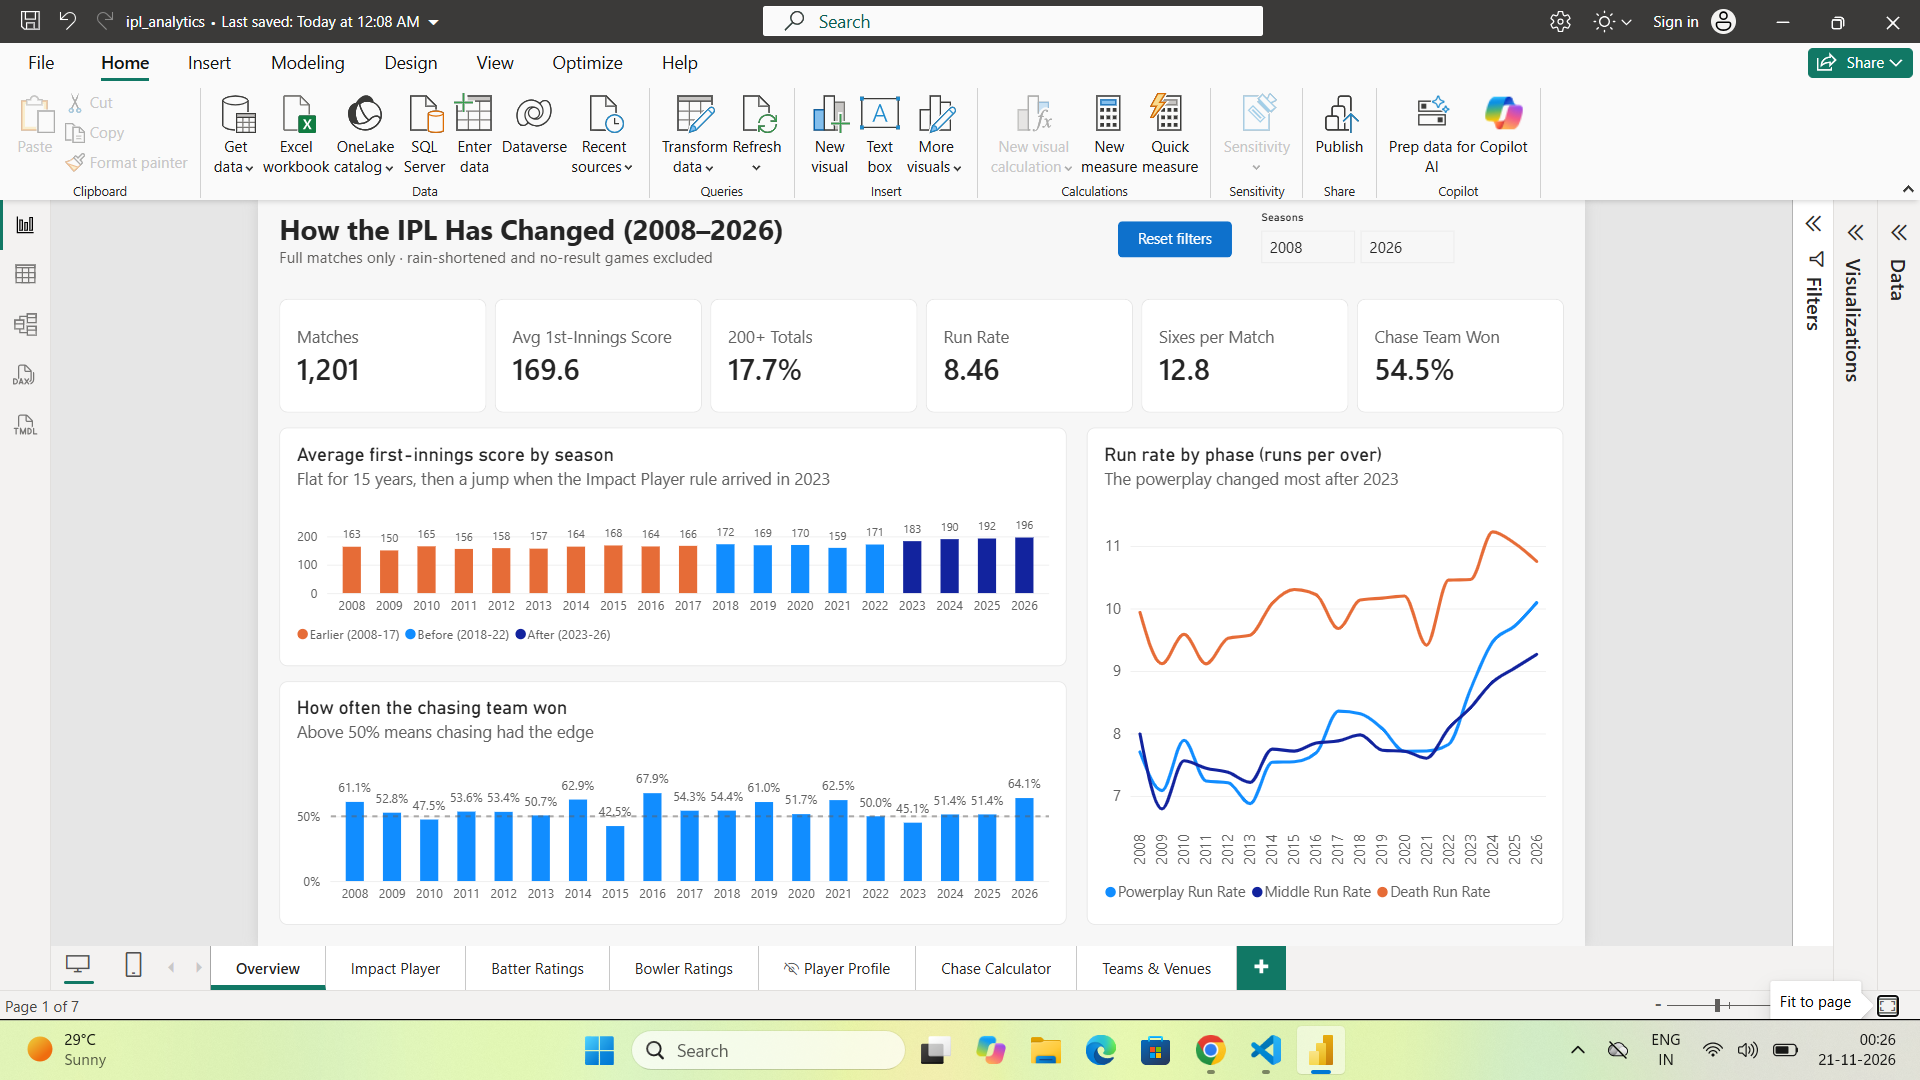

Layout of this report page (visuals, bound fields, positions):
{"tool":"powerbi","page":{"name":"Overview","canvas":[1280,720],"ordinal":0},"visuals":[{"type":"textbox","box":[20,10,900,70],"z":0},{"type":"slicer","fields":{"Values":["dim_season.season"]},"box":[960,10,300,70],"z":1000},{"type":"cardVisual","fields":{"Data":["_Measures.Matches Display","_Measures.Avg 1st Innings Total","_Measures.200+ Innings %","_Measures.Run Rate","_Measures.Sixes per Match","_Measures.Chase Win %"]},"box":[20,95,1240,110],"z":2000},{"type":"columnChart","title":"Average first-innings score by season","fields":{"Category":["dim_season.season"],"Series":["dim_season.era"],"Y":["_Measures.Avg 1st Innings Total"]},"box":[20,220,760,230],"z":3000},{"type":"lineChart","title":"Run rate by phase (runs per over)","fields":{"Category":["dim_season.season"],"Y":["_Measures.Powerplay Run Rate","_Measures.Middle Run Rate","_Measures.Death Run Rate"]},"box":[800,220,460,480],"z":4000},{"type":"clusteredColumnChart","title":"How often the chasing team won","fields":{"Category":["dim_season.season"],"Y":["_Measures.Chase Win %"]},"box":[20,465,760,235],"z":5000},{"type":"actionButton","box":[830,20,110,35],"z":5001}]}

Visuals, with their boxes on the page's 1280x720 design canvas (x1, y1, x2, y2). These are canvas units, not pixel positions in the 1920x1080 screenshot, which may show the page scaled, cropped or inside an application window:
textbox: l=20, t=10, r=920, b=80
slicer - dim_season.season: l=960, t=10, r=1260, b=80
cardVisual - _Measures.Matches Display x _Measures.Avg 1st Innings Total: l=20, t=95, r=1260, b=205
"Average first-innings score by season" columnChart: l=20, t=220, r=780, b=450
"Run rate by phase (runs per over)" lineChart: l=800, t=220, r=1260, b=700
"How often the chasing team won" clusteredColumnChart: l=20, t=465, r=780, b=700
actionButton: l=830, t=20, r=940, b=55
